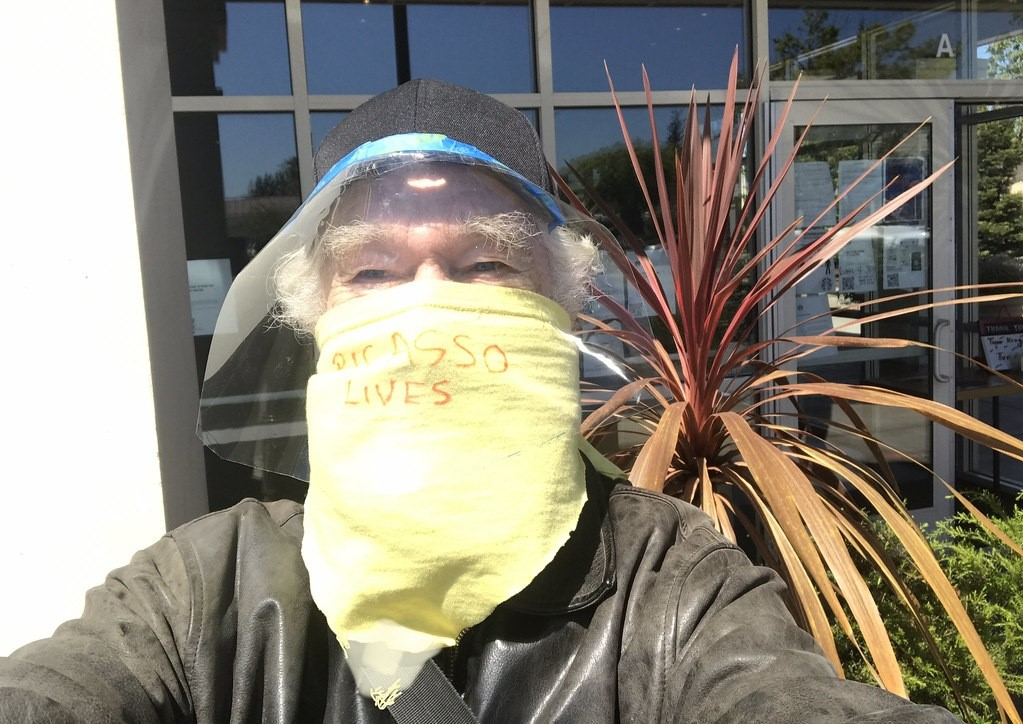face_with_mask: (292, 89, 578, 509)
